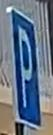Estacionamento autorizado: (3, 2, 49, 133)
